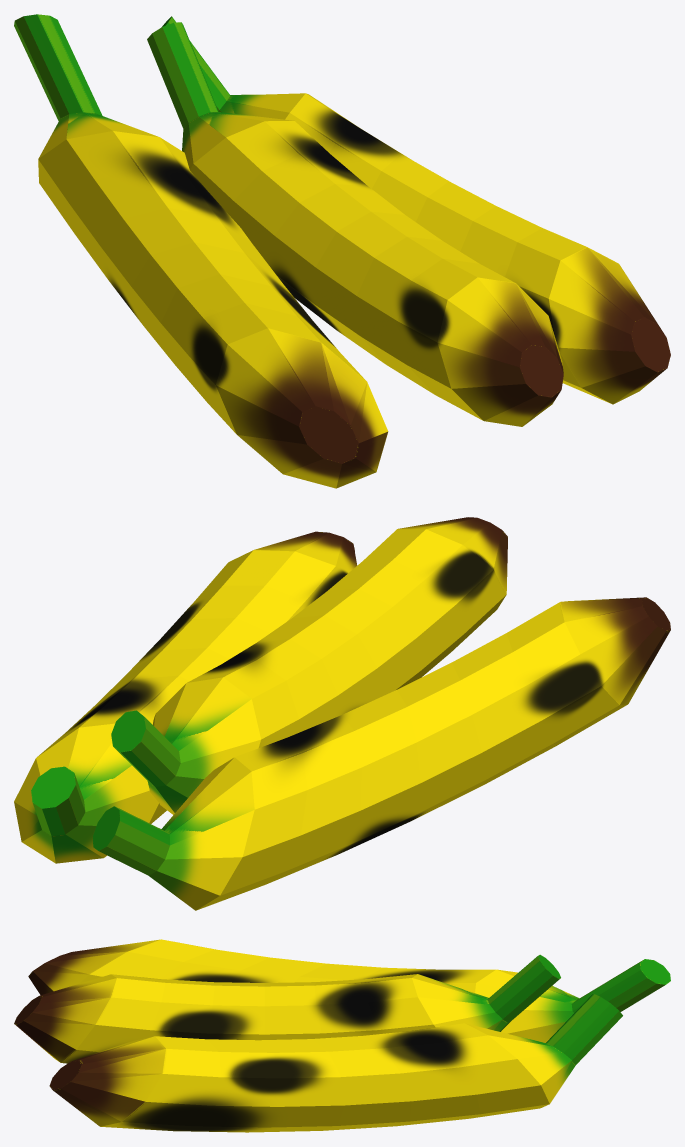
File: banana.fbx
3 renders of one model, top to bottom at view 1: azimuth 30°, elevation 25°; view 2: azimuth 150°, elevation 25°; view 3: azimuth 270°, elevation 25°, orthographic. The views are drawn at different scales.
Visible parts, largest first — view 1: banana.002, banana, banana.001; view 2: banana.002, banana, banana.001; view 3: banana.001, banana, banana.002.
Part boxes in pixels (x1,y1,x2,y2): banana.002: [14, 14, 388, 488]; banana: [147, 22, 563, 426]; banana.001: [161, 16, 670, 404]; banana.002: [93, 597, 670, 910]; banana: [111, 517, 507, 814]; banana.001: [14, 531, 357, 863]; banana.001: [49, 994, 622, 1132]; banana: [14, 954, 560, 1063]; banana.002: [28, 939, 670, 1042].
Size of the model in its own units: 167 by 75.6 by 334.
